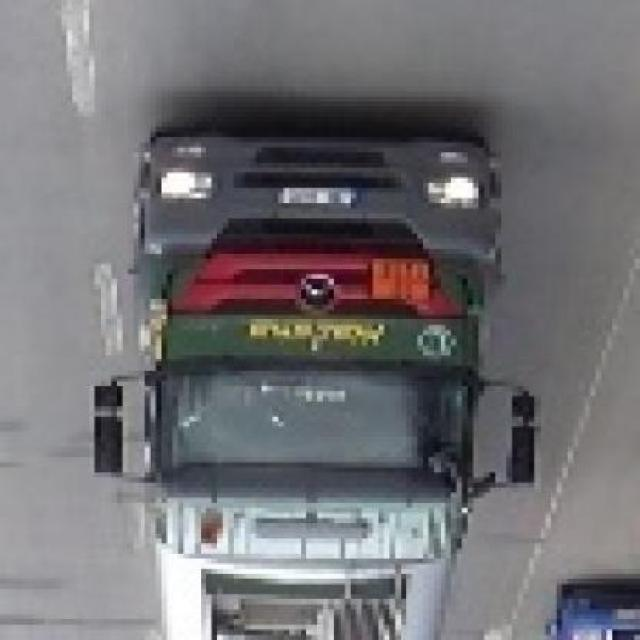truck: (84, 129, 535, 640)
